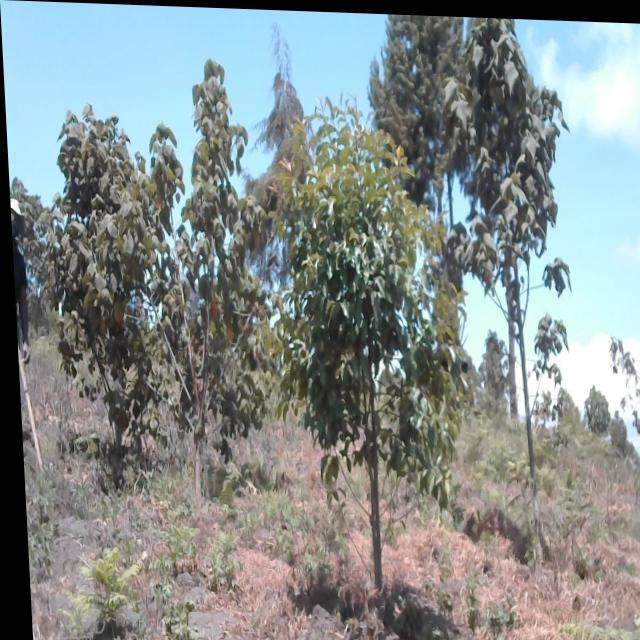Lemon Myrtle: (260, 82, 475, 602)
cedrus: (363, 11, 462, 152), (258, 16, 311, 229)
other: (444, 18, 580, 503), (139, 46, 275, 507), (53, 81, 163, 482)
